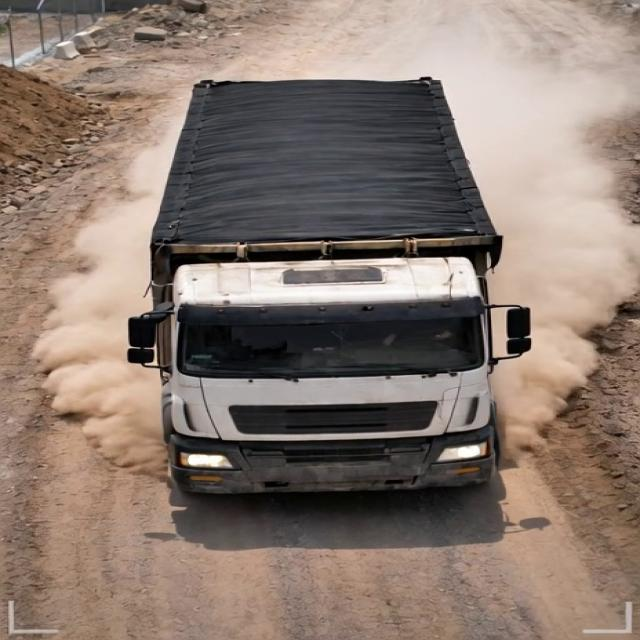trailer: (112, 77, 521, 249)
truck: (93, 54, 529, 507)
